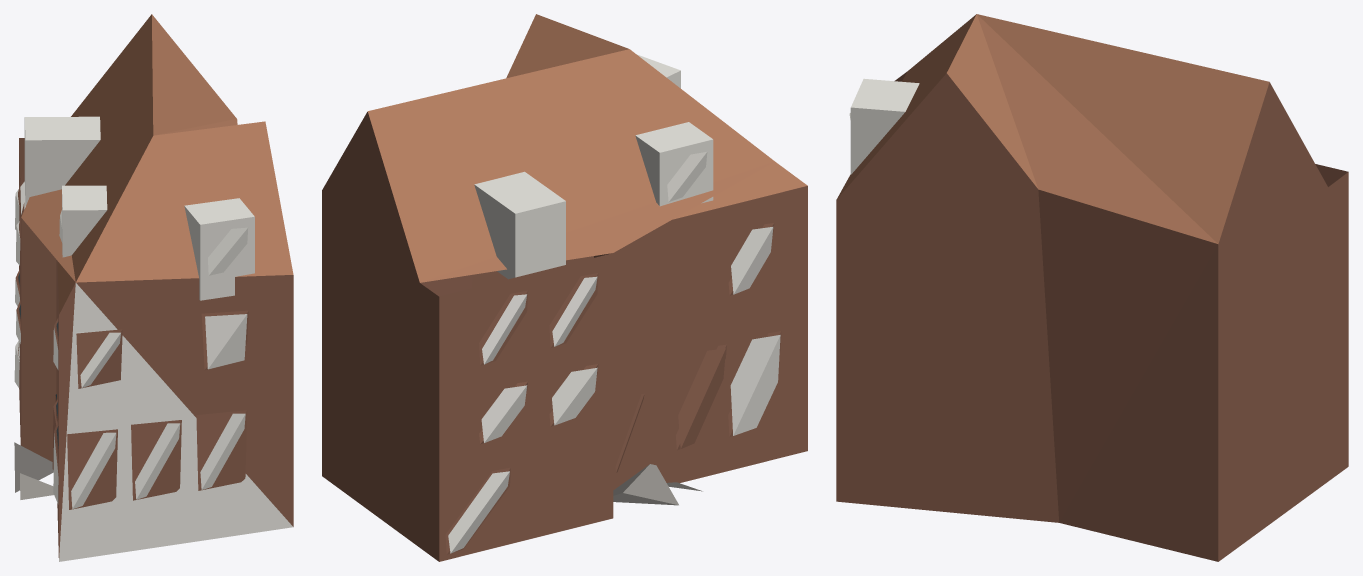
File: hans-en-grietje-spiegelgracht.lod2.glb
3 views of the same model, side by side, from view 1: azimuth 30°, elevation 25°; view 2: azimuth 150°, elevation 25°; view 3: azimuth 270°, elevation 25° (orthographic). The views are drawn at different scales.
Visible parts, largest first — view 1: lod2; view 2: lod2; view 3: lod2.
Part boxes in pixels (<box>): lod2: <box>14,14,293,561</box>; lod2: <box>322,14,807,561</box>; lod2: <box>836,14,1348,561</box>.
Bounding box in the file's own units: 11.29 × 12.69 × 13.31.
